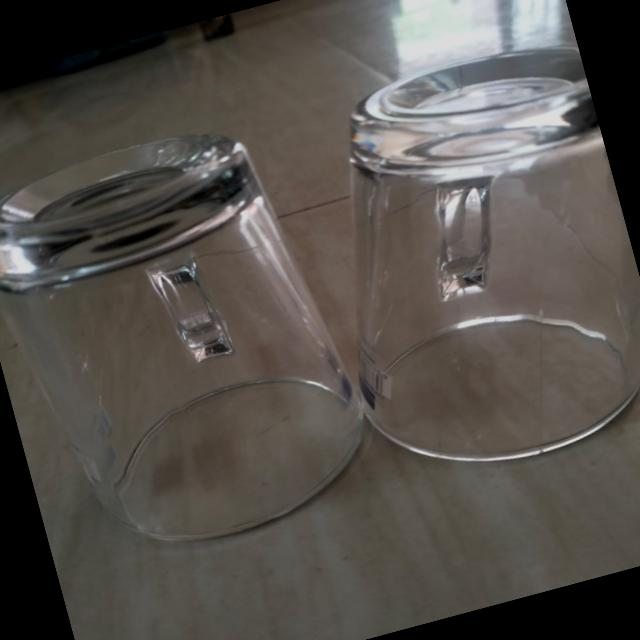glass-VX4N: (0, 99, 388, 585), (290, 22, 640, 493)
